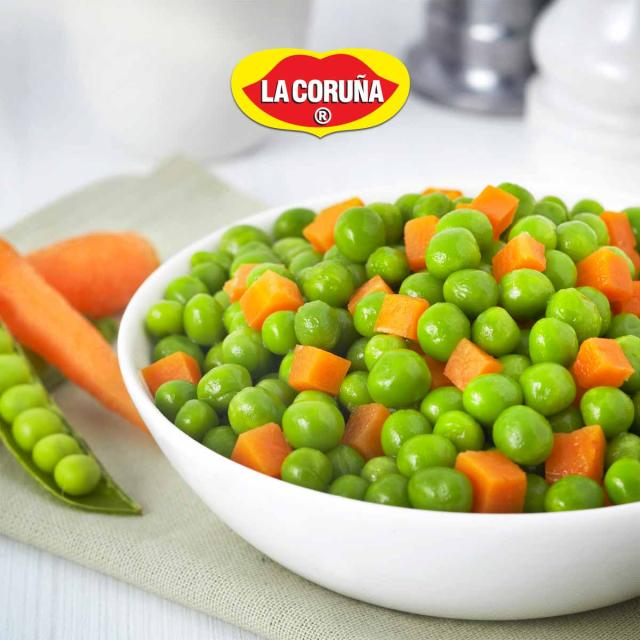arvejas: (154, 178, 638, 548)
